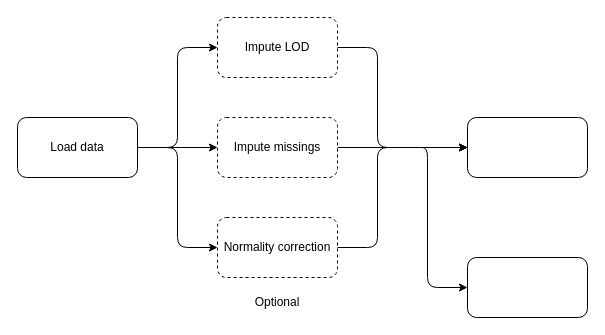
Image size: 605x335. Some labels were removed from this diagram. The shapes that lost their labels are listed below. From the top down, each one's centre as x and y in pixels, then its label:
(x=527, y=147): Exposure correlation
(x=527, y=287): Cluster Exposures
